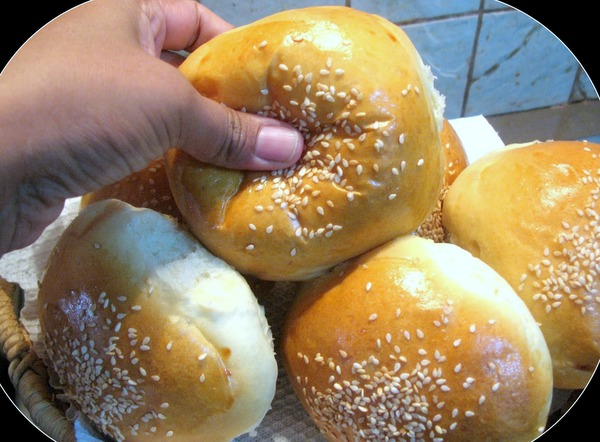hamburger_buns: (189, 5, 453, 275), (35, 203, 314, 442), (281, 221, 564, 442)
